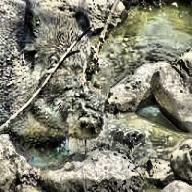boar: (0, 0, 128, 148)
